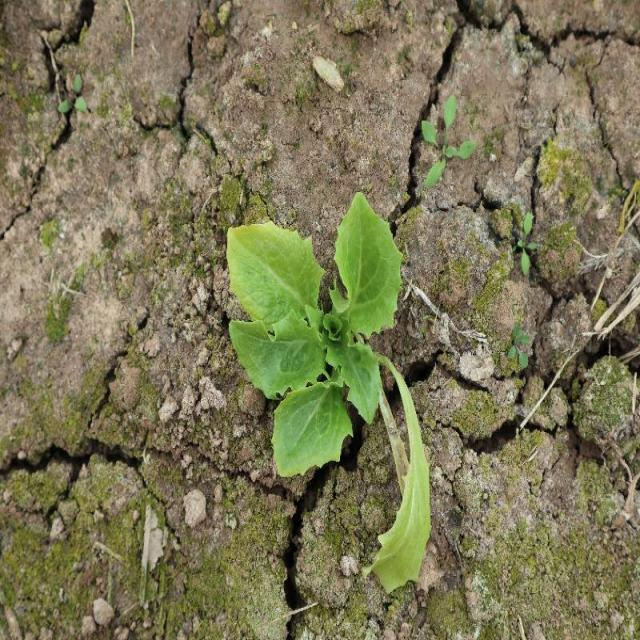crop: (226, 192, 432, 594)
